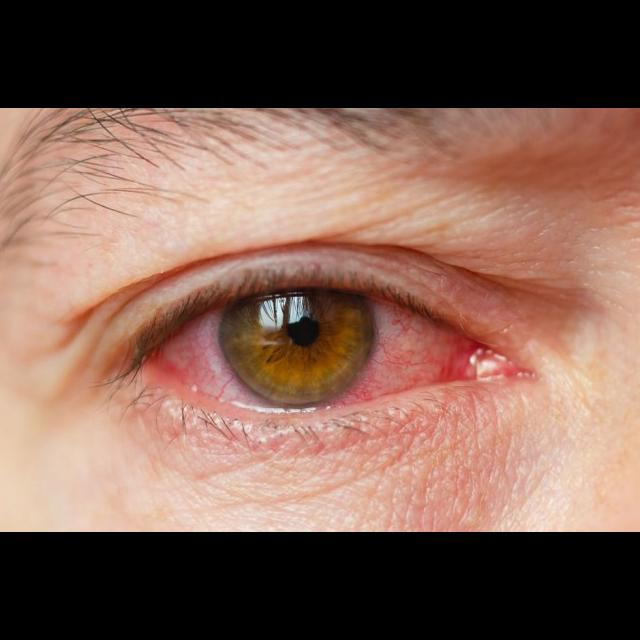eye: (157, 280, 473, 420)
iris: (218, 290, 377, 409)
